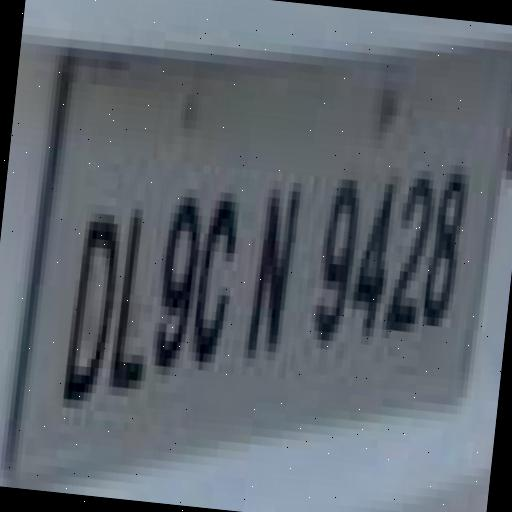number plate: (0, 59, 501, 483)
